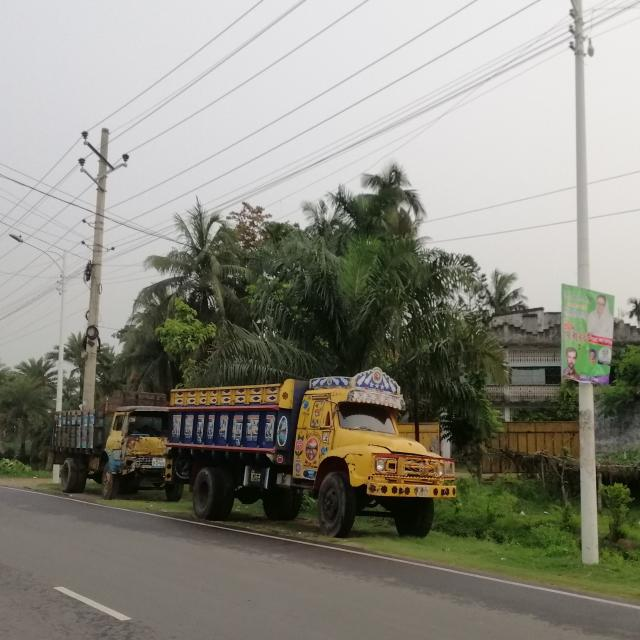Truck: (167, 367, 487, 541)
